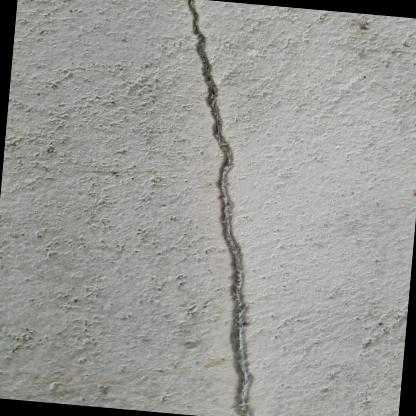crack: (189, 0, 248, 416)
